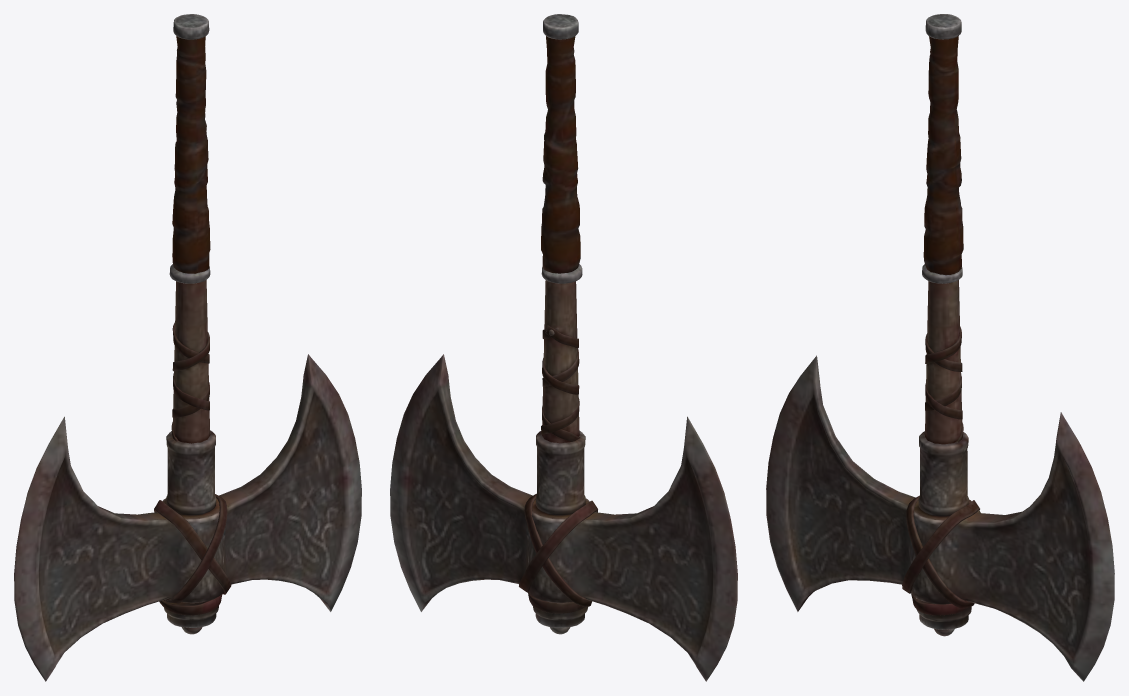
The model's file is weapon-wp_a_0722.glb.
3 renders of one model, left to right at view 1: azimuth 30°, elevation 25°; view 2: azimuth 150°, elevation 25°; view 3: azimuth 330°, elevation 25°, orthographic.
Parts seen in each view (by area): view 1: wp_a_0722_mesh; view 2: wp_a_0722_mesh; view 3: wp_a_0722_mesh.
Part boxes in pixels (box(x1,y1,x2,y2)): wp_a_0722_mesh: box(14, 14, 361, 681); wp_a_0722_mesh: box(390, 14, 737, 681); wp_a_0722_mesh: box(766, 14, 1114, 681).
Size of the model in its own units: 0.5241 by 0.901 by 0.1084.
1 material, 1 textured.
